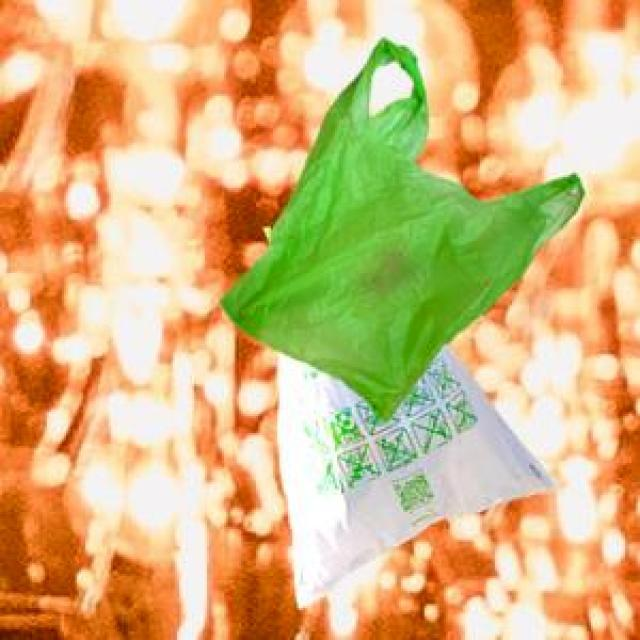Plastic_Bag: (216, 35, 582, 419), (276, 340, 556, 605)
